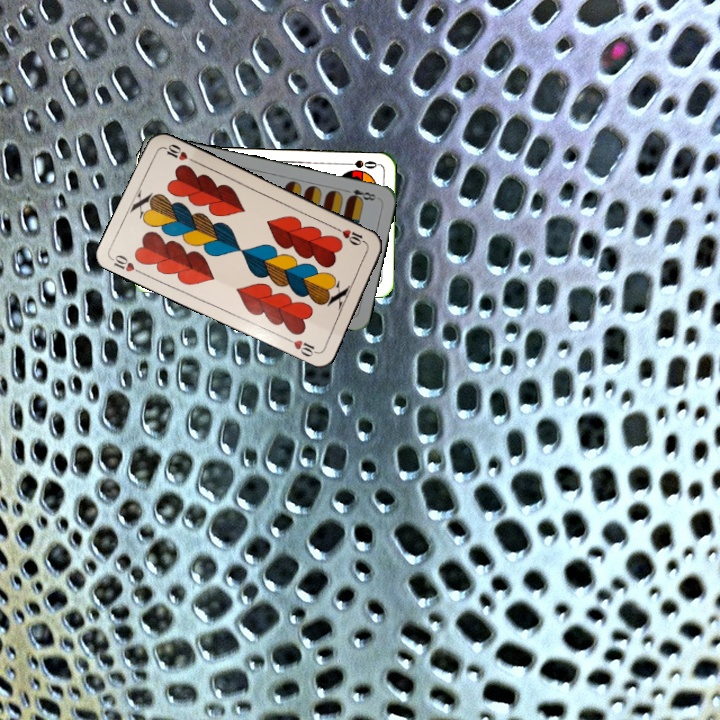E8: (340, 185, 378, 204)
H10: (109, 251, 147, 277), (332, 223, 370, 248)
SO: (339, 156, 380, 171)
